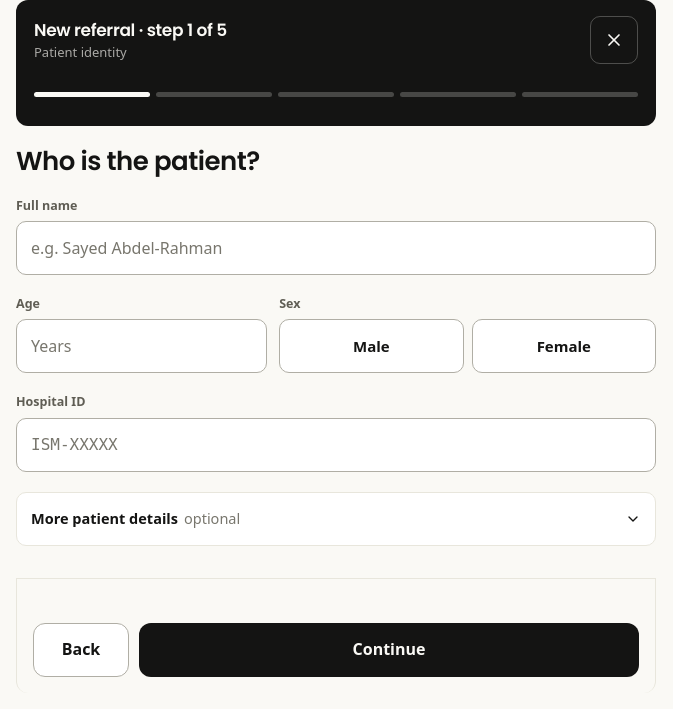
Test: Milestone 2 - Unified Referral Intake Wizard › Vitals step: direction words › says "high" or "low" by direction, and "low" for any abnormal GCS
Click the button named "Step 2:" at (214, 94), box [156,70,272,118]
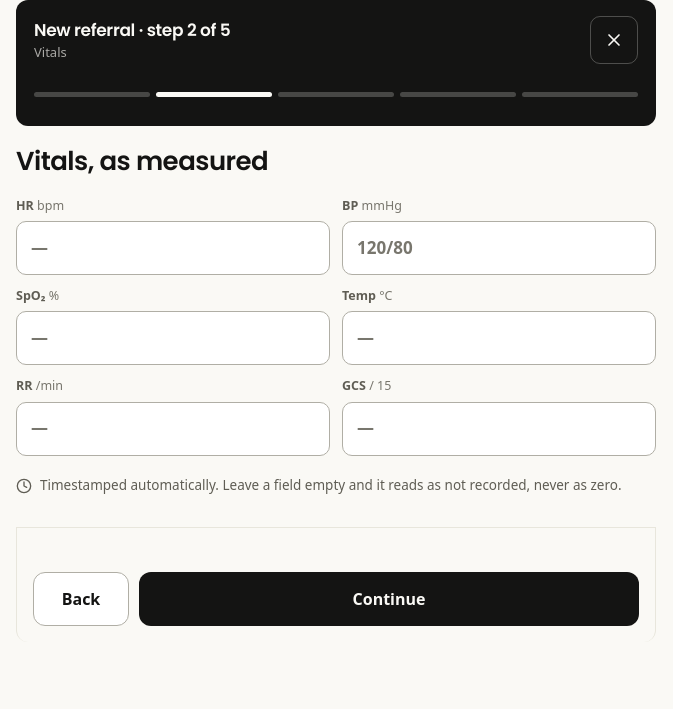
Type "118" into the number field labelled "HR bpm" at (173, 248), box [16,221,330,275]
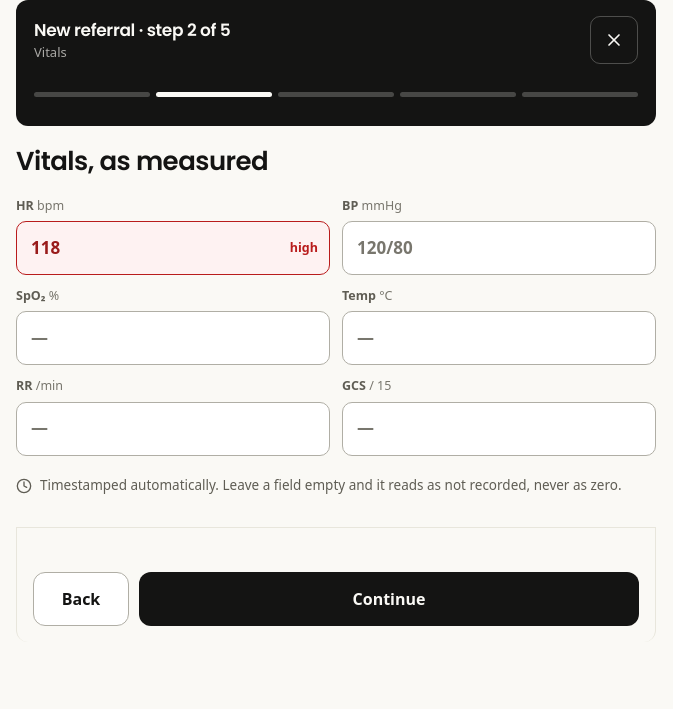
Type "86/54" into the field labelled "BP mmHg" at (499, 248), box [342,221,656,275]
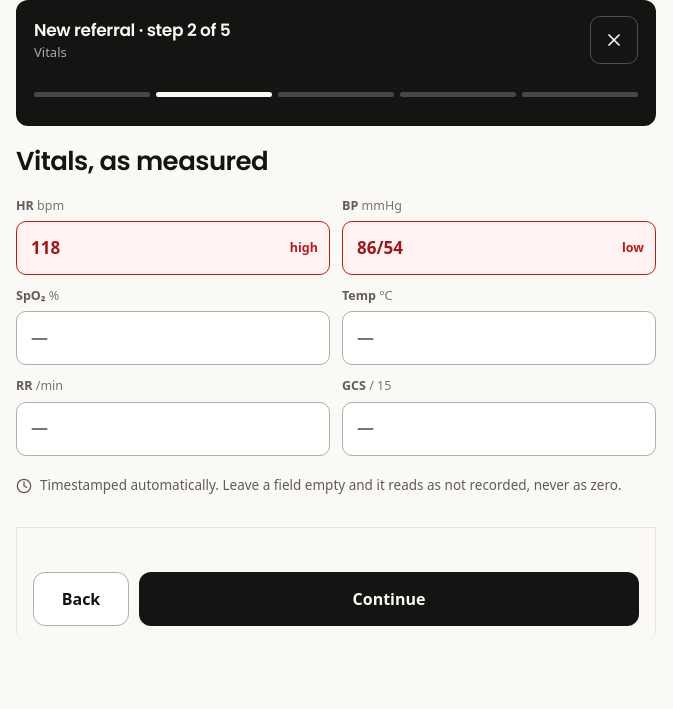
Type "11" into the number field labelled "GCS / 15" at (499, 429), box [342,402,656,456]
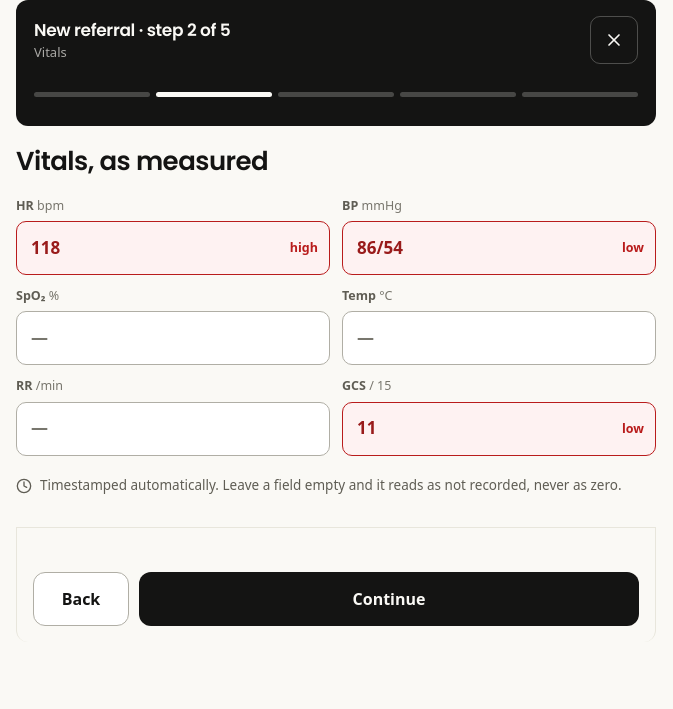
Now the element showing "high" is shown, box [290,239,318,257]
Now the element showing "low" below "mmHg" is shown, box [622,239,644,256]
Now the element showing "low" below "GCS" is shown, box [622,420,644,436]
